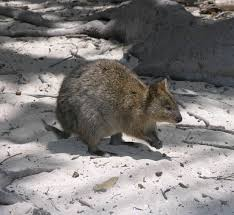quokka: (32, 49, 192, 164)
